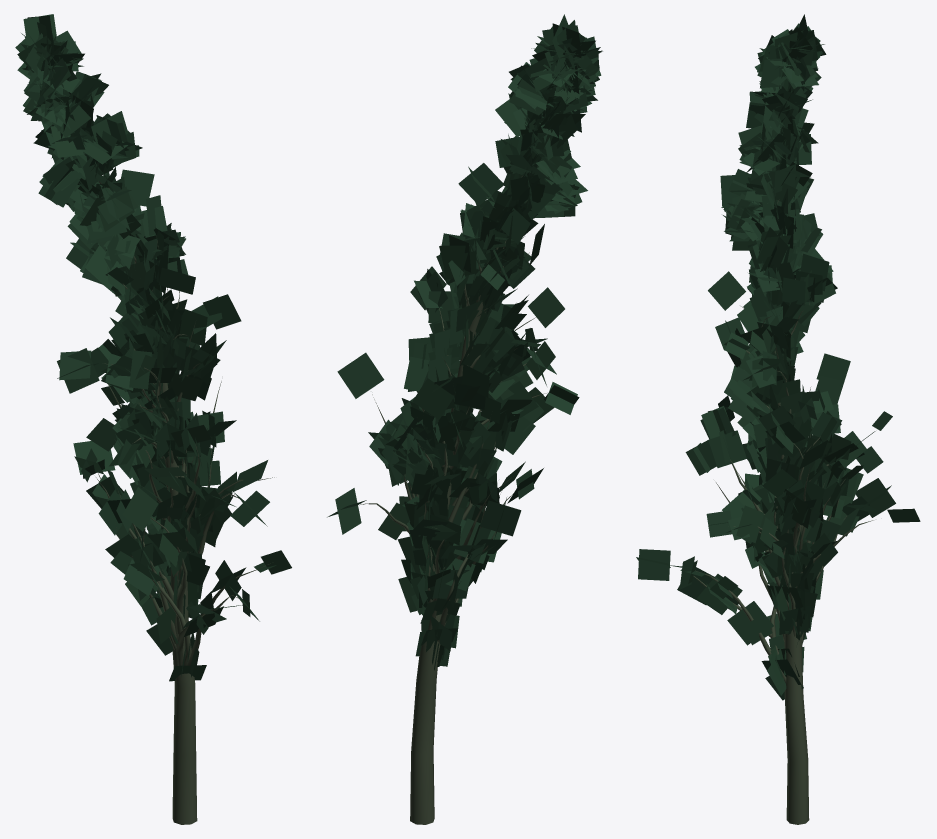
File: meadow-spruce-b.lod1.glb
3 views of the same model, side by side, from view 1: azimuth 30°, elevation 25°; view 2: azimuth 150°, elevation 25°; view 3: azimuth 270°, elevation 25° (orthographic). The views are drawn at different scales.
Parts seen in each view (by area): view 1: leaves, bark; view 2: leaves, bark; view 3: leaves, bark.
Part boxes in pixels (bbox=[...]): leaves: bbox=[15, 14, 291, 681]; bark: bbox=[96, 181, 274, 824]; leaves: bbox=[327, 14, 602, 670]; bark: bbox=[359, 175, 546, 824]; leaves: bbox=[636, 14, 920, 700]; bark: bbox=[693, 199, 873, 824].
Size of the model in its own units: 11.94 by 39.94 by 14.08.
